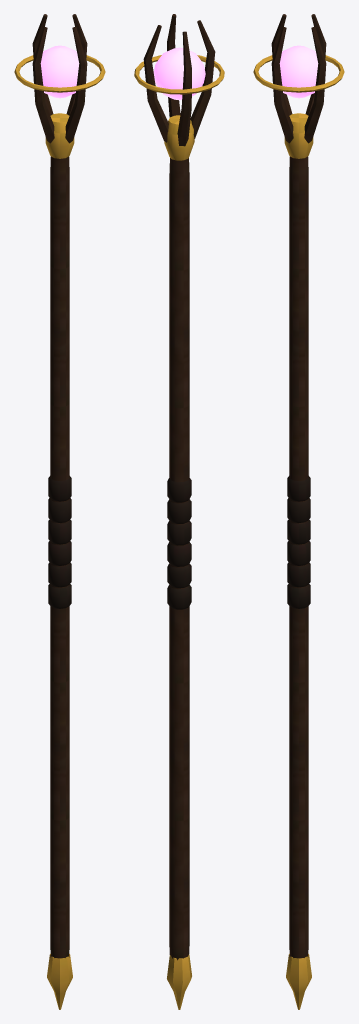
The model's file is arcane_staff.glb.
3 views of the same model, side by side, from view 1: azimuth 90°, elevation 25°; view 2: azimuth 150°, elevation 25°; view 3: azimuth 270°, elevation 25° (orthographic).
Visible parts, largest first — view 1: arcane_staff; view 2: arcane_staff; view 3: arcane_staff.
Part boxes in pixels (x1=…): arcane_staff: x1=14, y1=14, x2=105, y2=1009; arcane_staff: x1=134, y1=14, x2=224, y2=1009; arcane_staff: x1=253, y1=14, x2=344, y2=1009.
Size of the model in its own units: 0.18 by 2.15 by 0.18.
Materials: 4 (4 with a texture image).
